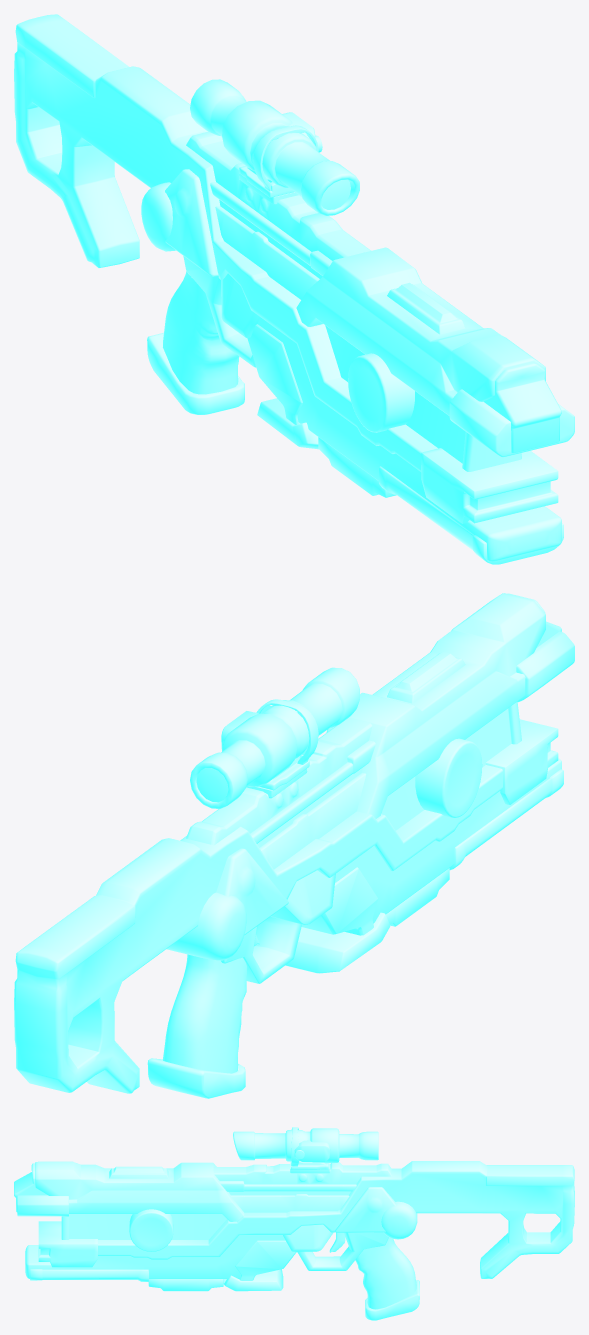
The model's file is scifirifle01-2.glb.
The picture shows the model from 3 angles, top to bottom: view 1: azimuth 30°, elevation 25°; view 2: azimuth 150°, elevation 25°; view 3: azimuth 270°, elevation 25°; orthographic projection. The views are drawn at different scales.
Parts seen in each view (by area): view 1: SciFiRifle01_2, Scope2, Scope1, Extruder, Clip; view 2: SciFiRifle01_2, Scope2, Extruder, Scope1, Clip; view 3: SciFiRifle01_2, Scope2, Extruder, Clip, Scope1.
Boxes of the visible parts, x1=… form: SciFiRifle01_2: x1=14, y1=14, x2=574, y2=564; Scope2: x1=190, y1=79, x2=359, y2=215; Scope1: x1=239, y1=125, x2=318, y2=203; Extruder: x1=257, y1=398, x2=318, y2=449; Clip: x1=318, y1=437, x2=396, y2=497; SciFiRifle01_2: x1=14, y1=593, x2=574, y2=1098; Scope2: x1=190, y1=667, x2=359, y2=808; Extruder: x1=285, y1=912, x2=390, y2=973; Scope1: x1=256, y1=699, x2=318, y2=796; Clip: x1=386, y1=868, x2=449, y2=926; SciFiRifle01_2: x1=14, y1=1161, x2=574, y2=1320; Scope2: x1=233, y1=1128, x2=378, y2=1173; Extruder: x1=223, y1=1269, x2=283, y2=1291; Clip: x1=148, y1=1279, x2=223, y2=1291; Scope1: x1=291, y1=1127, x2=328, y2=1173.
Bounding box in the file's own units: 0.1069 × 0.3483 × 0.9651.
